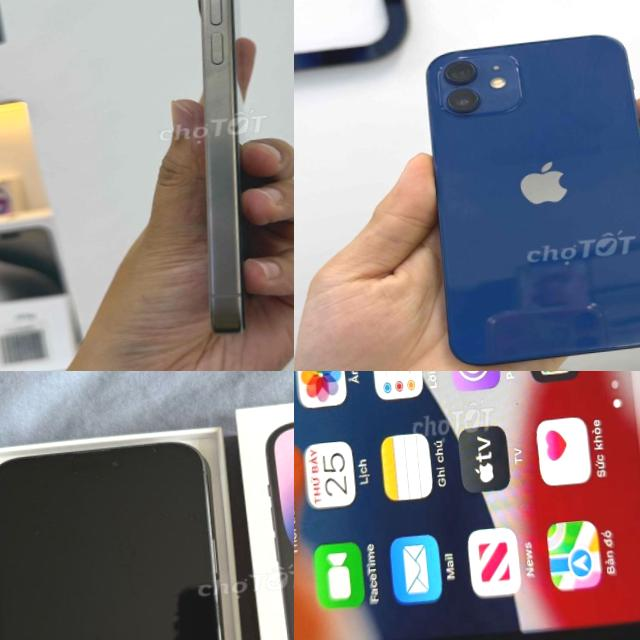gen_12_13: (421, 29, 640, 370)
gen_14: (0, 437, 247, 640)
gen_15: (169, 0, 276, 347)
gen_7_8: (294, 371, 640, 640)
